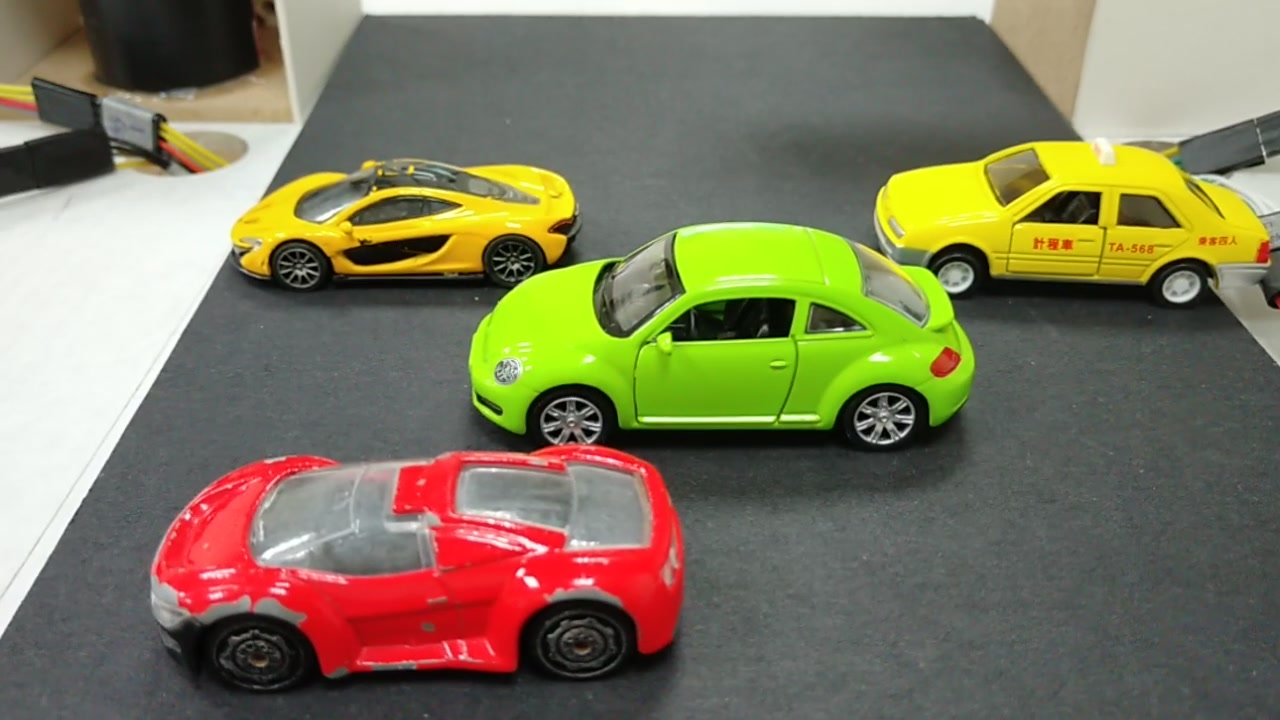car: (146, 440, 679, 677), (476, 236, 979, 454), (875, 149, 1272, 311), (230, 161, 576, 289)
